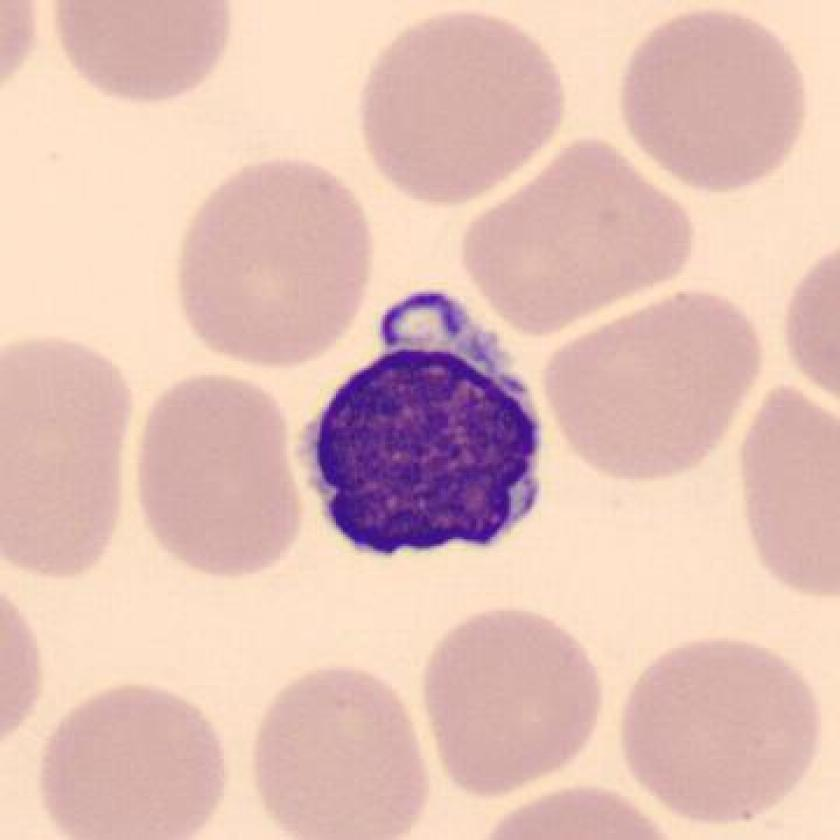lymphocyte: (290, 274, 568, 577)
